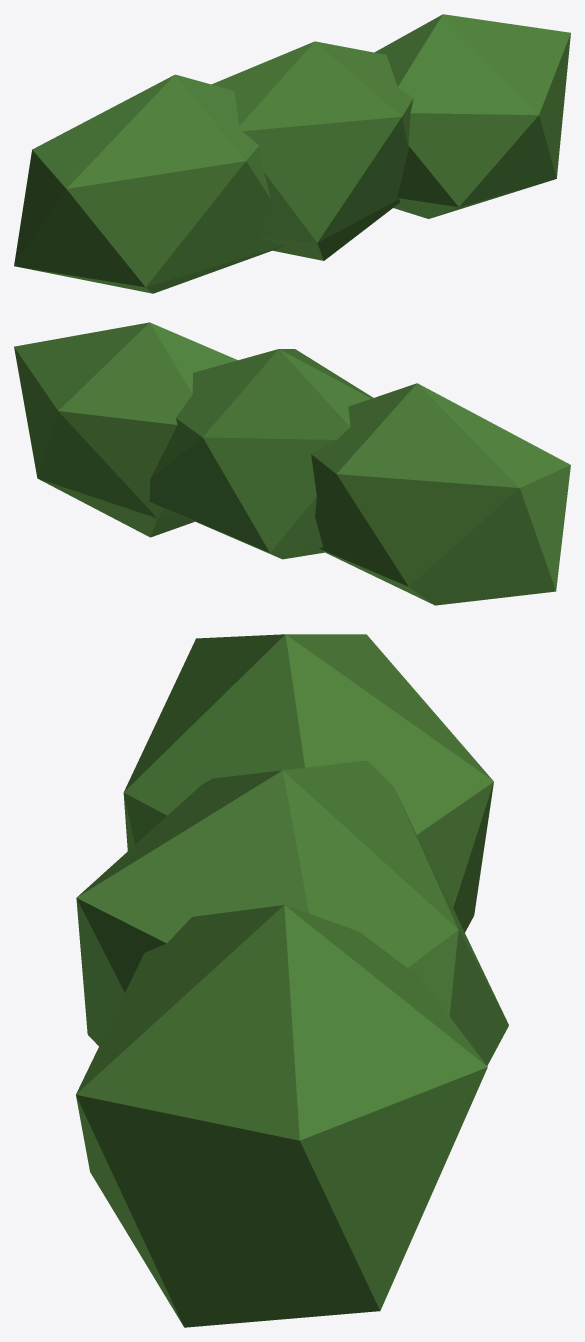
The model's file is Cali_3.fbx.
3 views of the same model, one above another, from view 1: azimuth 30°, elevation 25°; view 2: azimuth 150°, elevation 25°; view 3: azimuth 270°, elevation 25° (orthographic). The views are drawn at different scales.
Parts seen in each view (by area): view 1: Cali_3; view 2: Cali_3; view 3: Cali_3.
Boxes of the visible parts, box(x1,y1,x2,y2) form: Cali_3: box(14, 14, 570, 293); Cali_3: box(14, 322, 570, 605); Cali_3: box(76, 634, 508, 1327).
Bounding box in the file's own units: 2.17 × 0.8166 × 0.7427.
